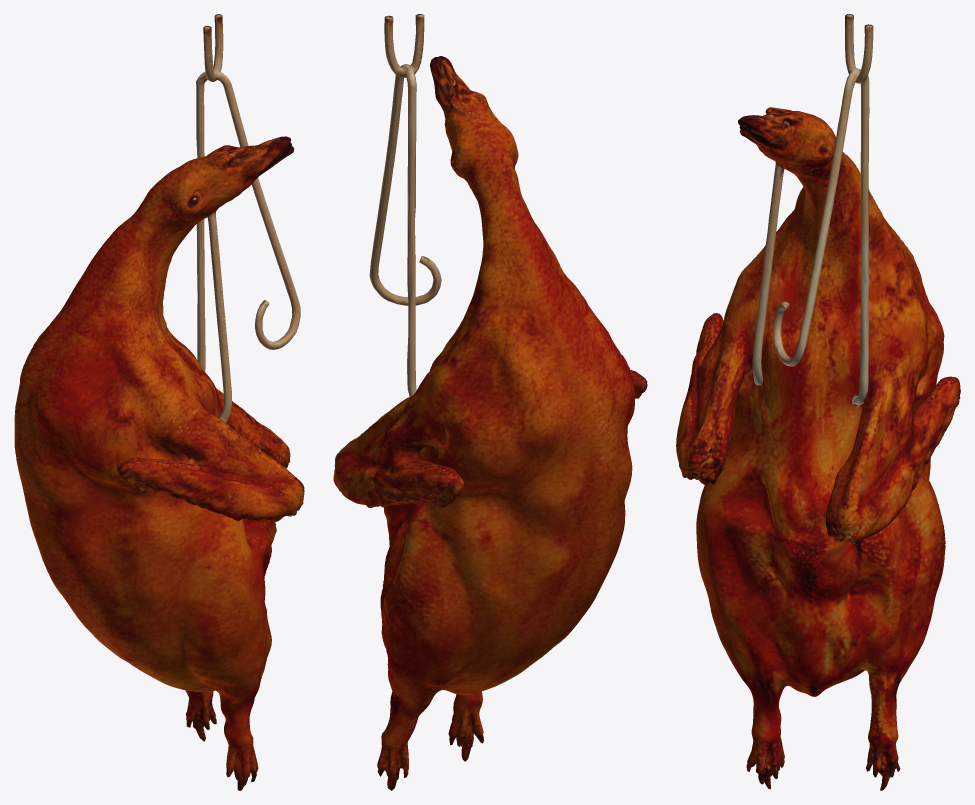
The model's file is duck.glb.
The picture shows the model from 3 angles, left to right: view 1: azimuth 30°, elevation 25°; view 2: azimuth 150°, elevation 25°; view 3: azimuth 270°, elevation 25°; orthographic projection. The views are drawn at different scales.
Parts seen in each view (by area): view 1: tripo_node_8398baba-1c65-4bd9-9b11-14f478bfb3c5; view 2: tripo_node_8398baba-1c65-4bd9-9b11-14f478bfb3c5; view 3: tripo_node_8398baba-1c65-4bd9-9b11-14f478bfb3c5.
Part boxes in pixels (x1,y1,x2,y2): tripo_node_8398baba-1c65-4bd9-9b11-14f478bfb3c5: (14,14,304,790); tripo_node_8398baba-1c65-4bd9-9b11-14f478bfb3c5: (333,14,647,790); tripo_node_8398baba-1c65-4bd9-9b11-14f478bfb3c5: (676,14,960,790).
Size of the model in its own units: 0.3749 by 0.9828 by 0.3266.
Materials: 1 (1 with a texture image).
